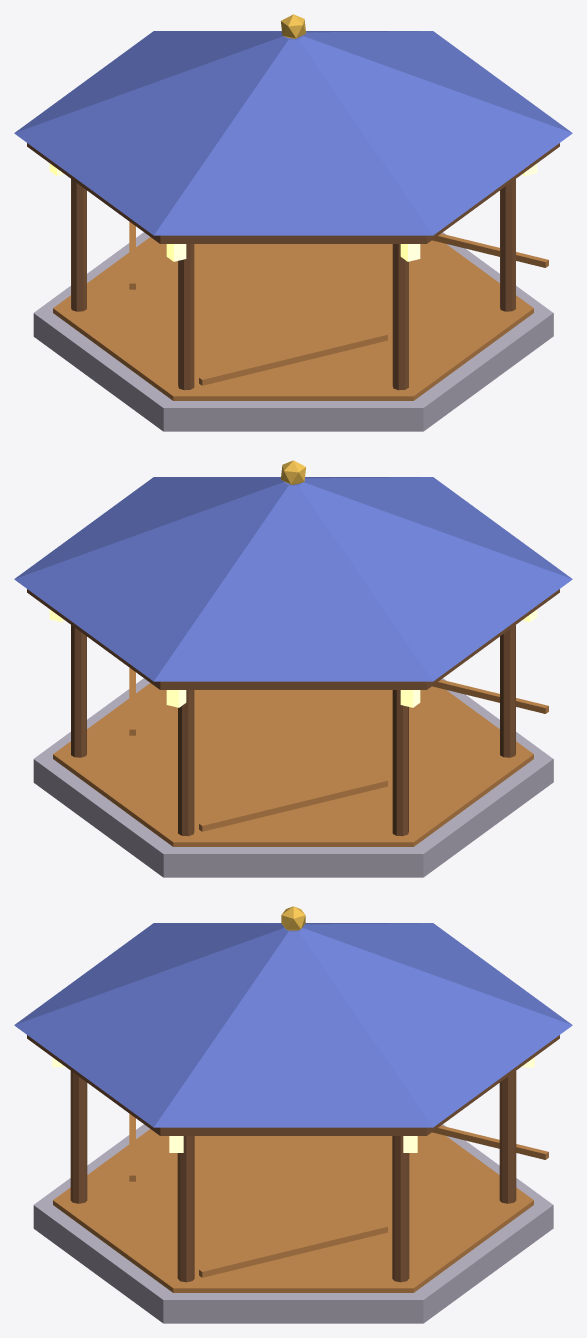
File: gazebo.glb
3 views of the same model, one above another, from view 1: azimuth 30°, elevation 25°; view 2: azimuth 150°, elevation 25°; view 3: azimuth 270°, elevation 25° (orthographic).
Parts seen in each view (by area): view 1: gazebo; view 2: gazebo; view 3: gazebo.
Boxes of the visible parts, <box> form: gazebo: <box>14,14,572,431</box>; gazebo: <box>14,460,572,877</box>; gazebo: <box>14,906,572,1323</box>.
Bounding box in the file's own units: 7.45 × 5.47 × 8.6.
